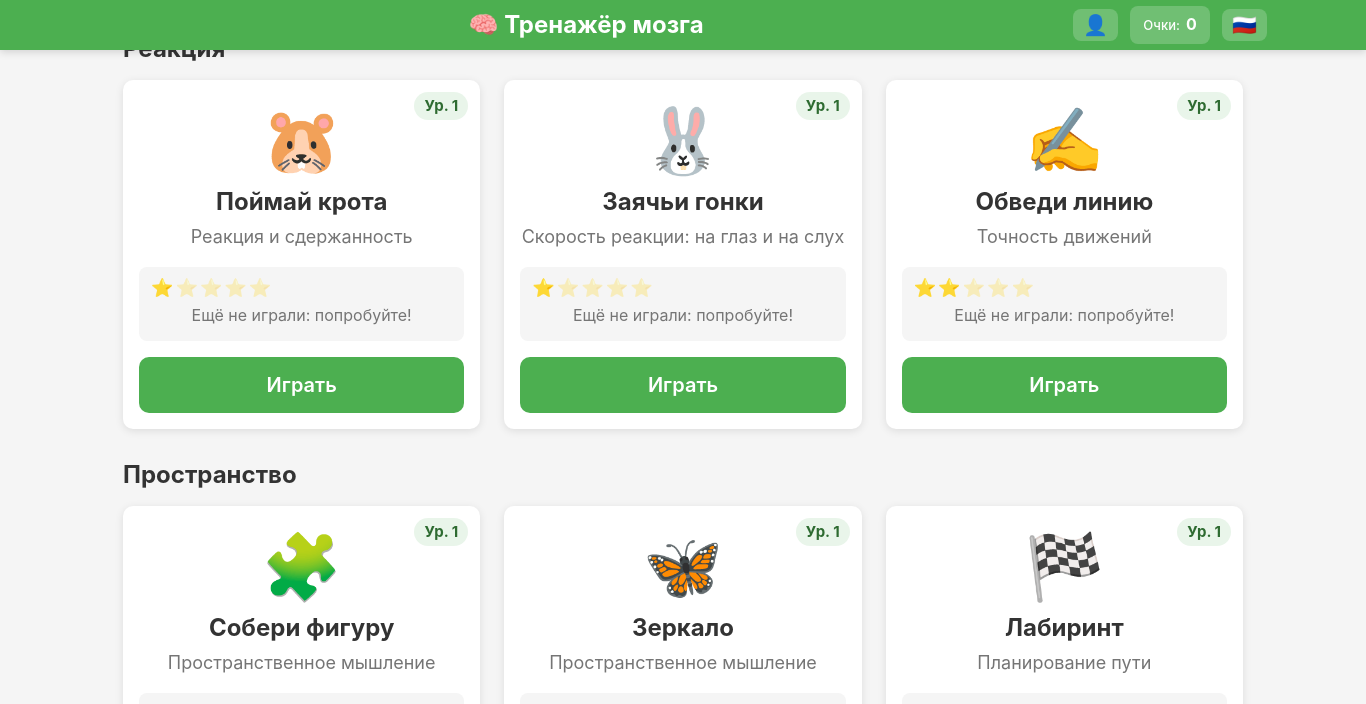
App › should show back button when in game
The width and height of the screenshot is (1366, 704).
(page scrolled)
Click the button "Играть" below "Скорость реакции: на глаз и на слух" at point(683, 385), box top-left (520, 357), bottom-right (846, 413)
(page scrolled)
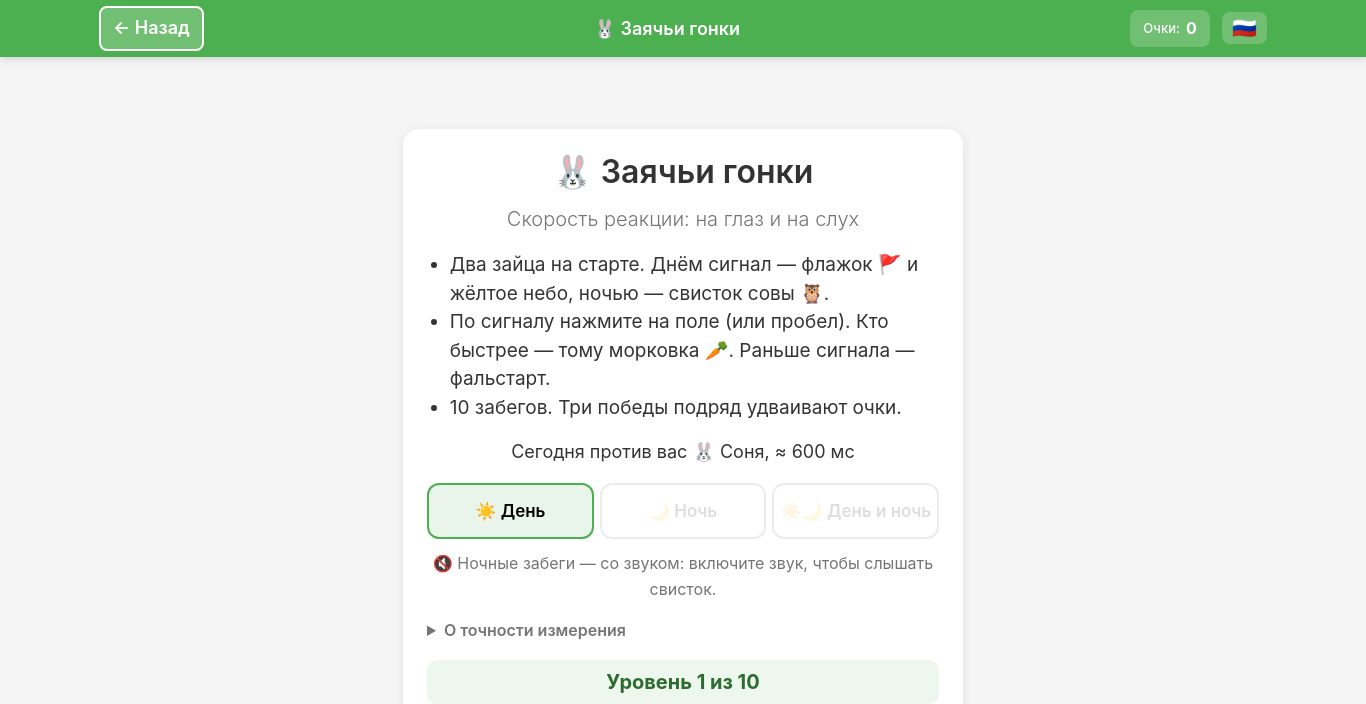
Check: the button with class "back-button" is shown, box top-left (99, 6), bottom-right (204, 51)
